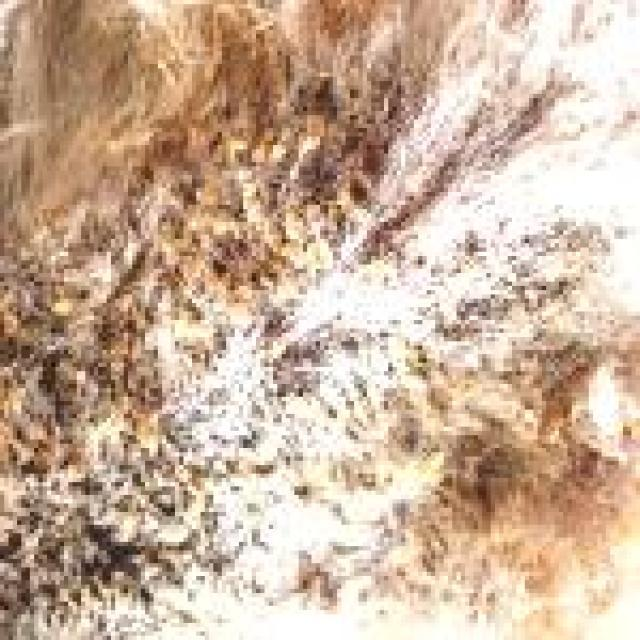fungal infection: (1, 276, 205, 609), (182, 152, 370, 272), (393, 355, 549, 452), (266, 429, 406, 532), (471, 231, 603, 331), (208, 449, 264, 608)
